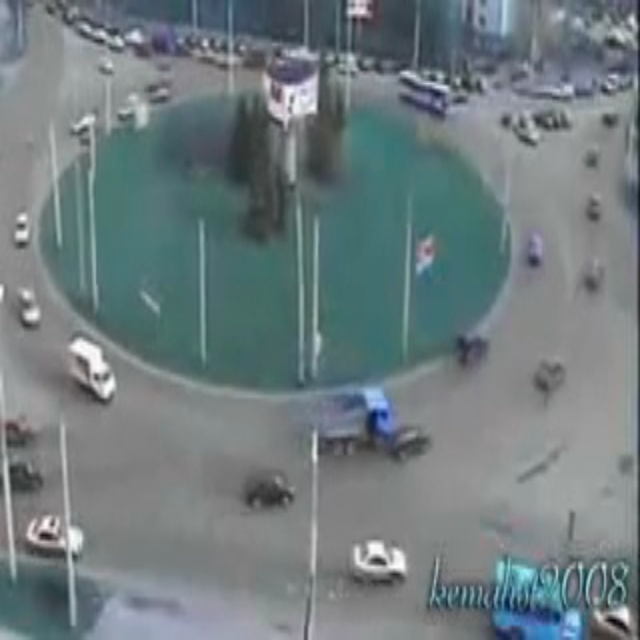acc: (301, 392, 424, 468)
